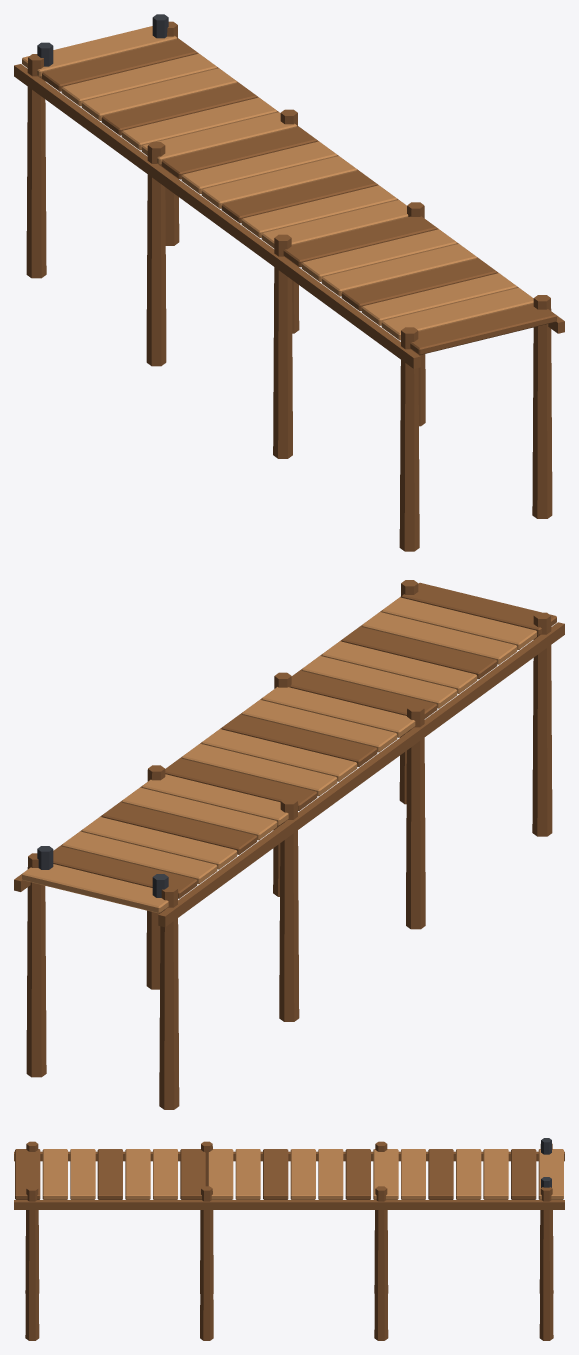
File: Wooden_Dock.glb
3 views of the same model, one above another, from view 1: azimuth 30°, elevation 25°; view 2: azimuth 150°, elevation 25°; view 3: azimuth 270°, elevation 25° (orthographic). The views are drawn at different scales.
Visible parts, largest first — view 1: Wooden_Dock_Mesh; view 2: Wooden_Dock_Mesh; view 3: Wooden_Dock_Mesh.
Part boxes in pixels (x1=…): Wooden_Dock_Mesh: x1=14, y1=14, x2=564, y2=551; Wooden_Dock_Mesh: x1=14, y1=580, x2=564, y2=1109; Wooden_Dock_Mesh: x1=14, y1=1138, x2=564, y2=1340.
Size of the model in its own units: 2.62 by 3.76 by 12.
Materials: 1 (1 with a texture image).
